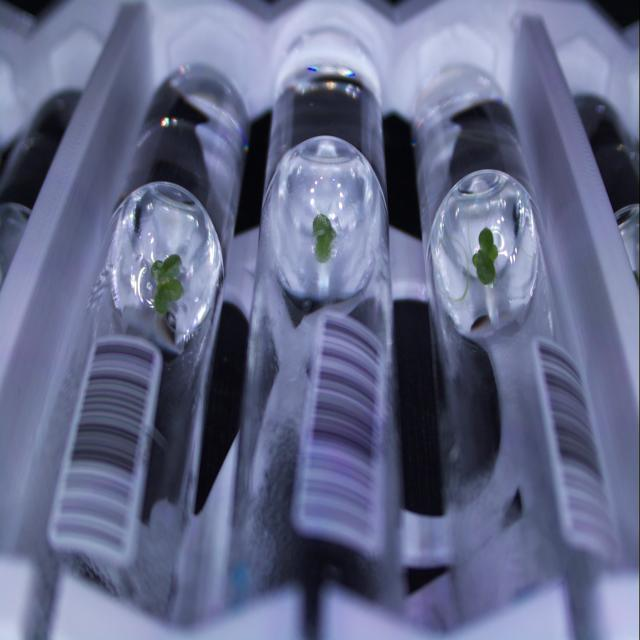Lemna-Gibba: (151, 254, 184, 314), (472, 227, 499, 285), (312, 213, 336, 262)
